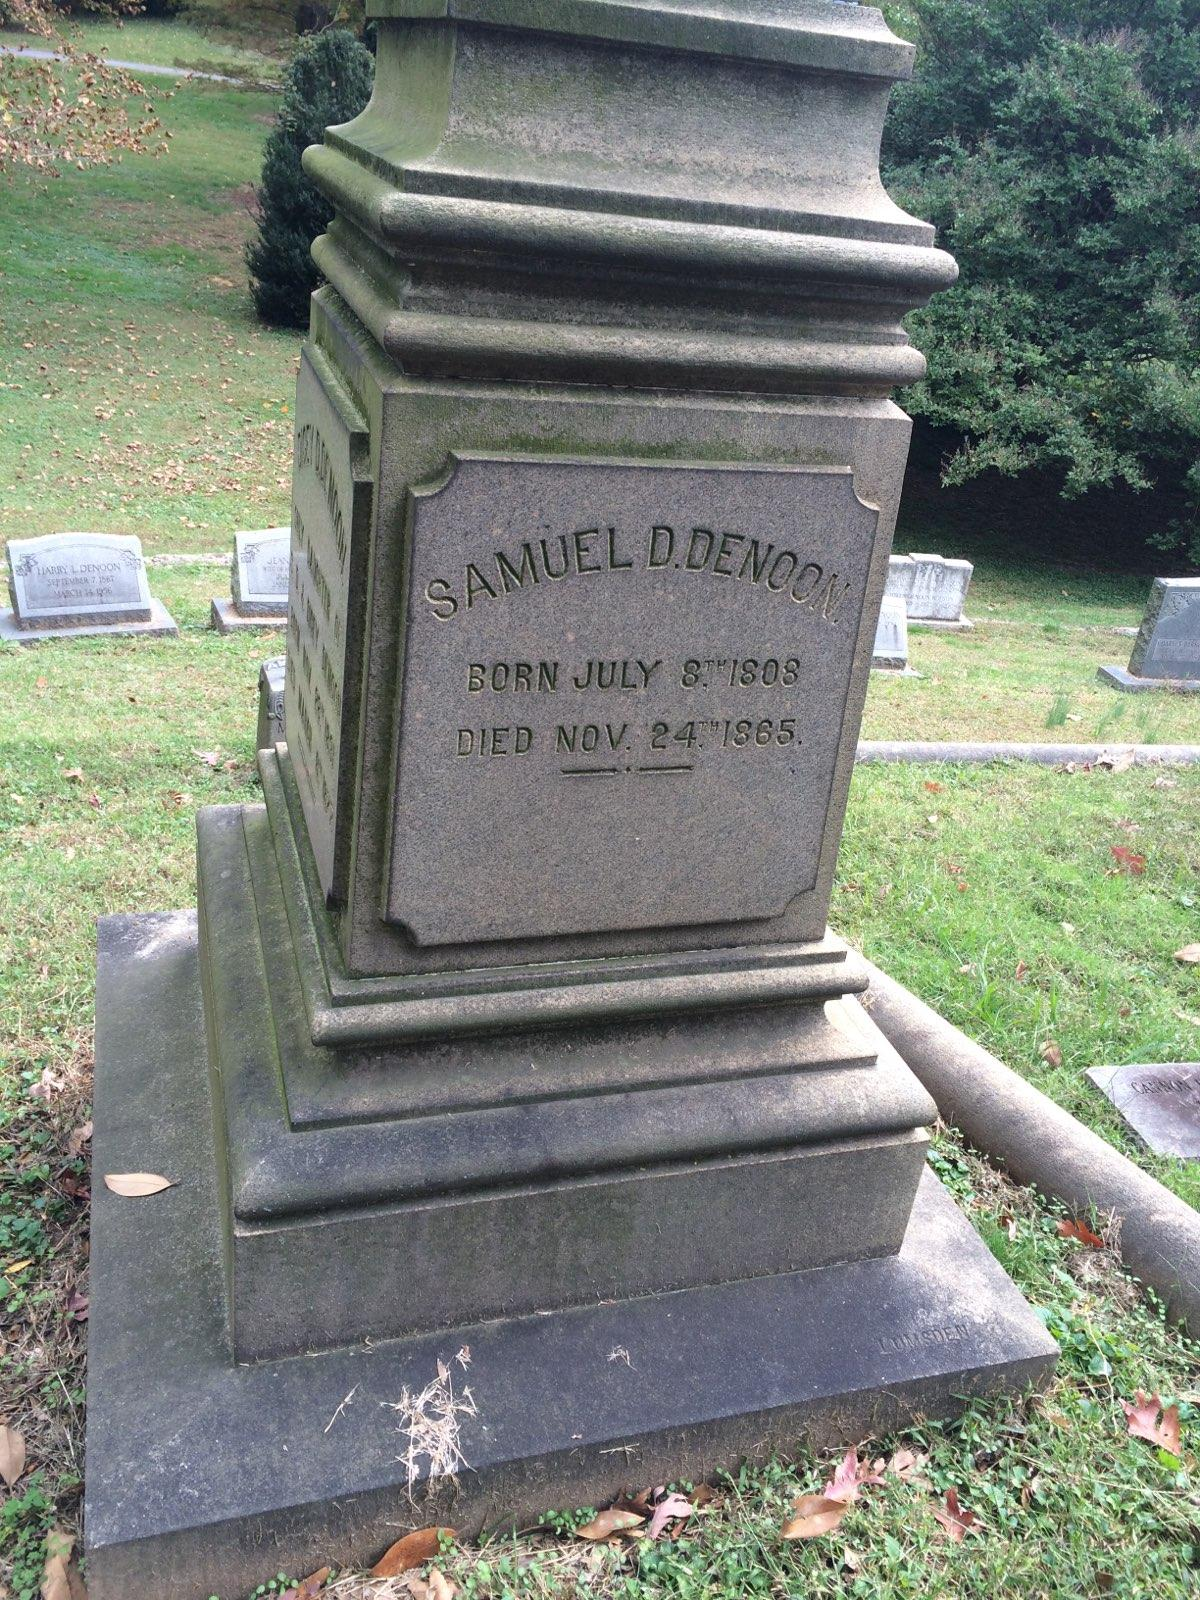obelisk: (241, 0, 953, 1067)
